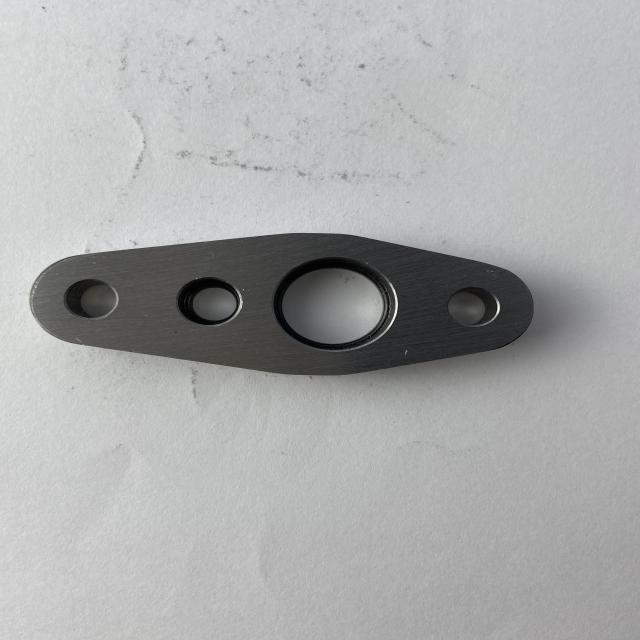chap: (404, 349, 409, 357), (240, 288, 247, 292), (490, 270, 496, 274), (194, 276, 200, 280)
lines: (76, 337, 84, 344)
